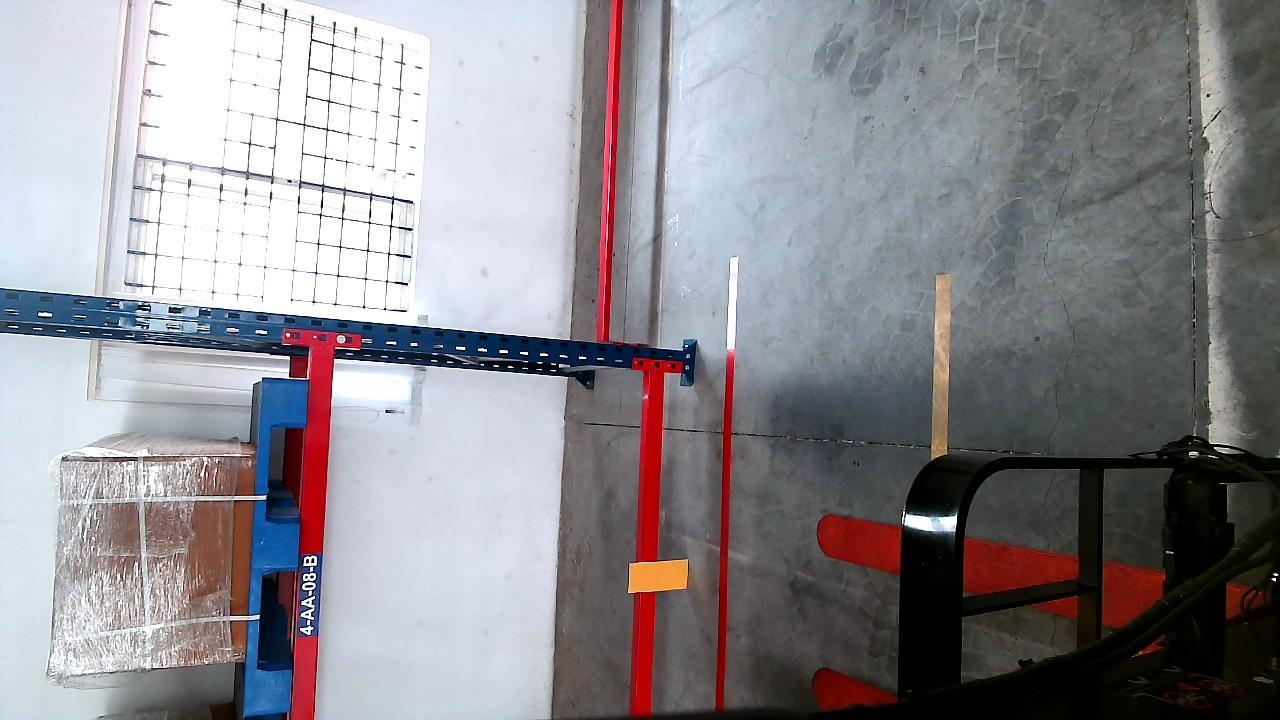red_line: (716, 257, 738, 712)
yellow_line: (931, 269, 950, 458)
